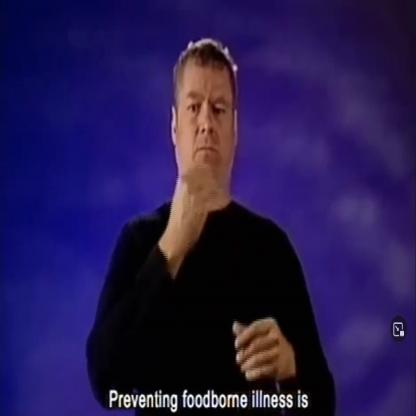Food: (164, 38, 242, 251)
